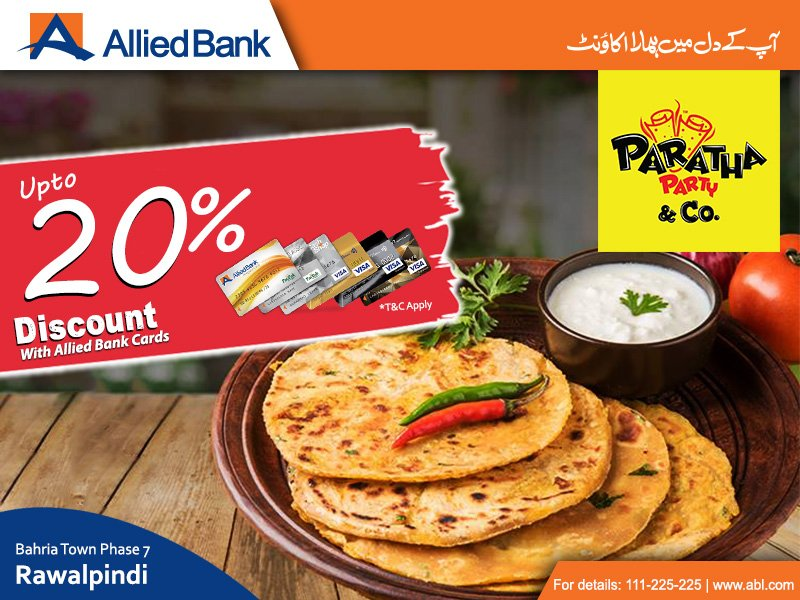aloo_paratha: (275, 339, 739, 577)
